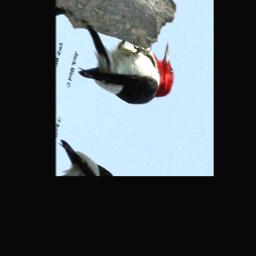Woodpecker: (75, 0, 183, 130)
